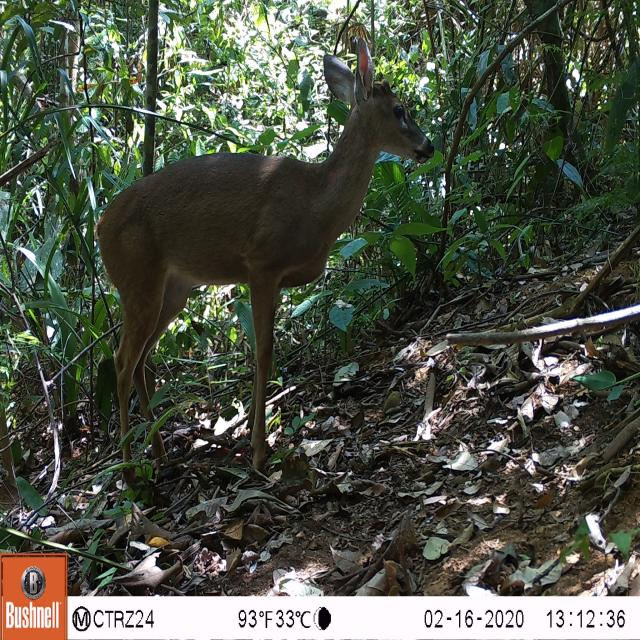White-tailed Deer: (81, 31, 446, 490)
